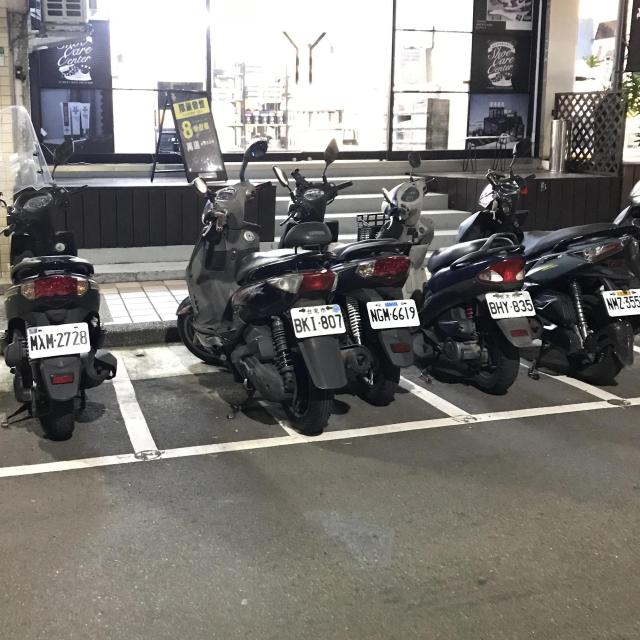W: (24, 322, 94, 358), (288, 302, 349, 340), (365, 294, 422, 330), (481, 287, 537, 321), (598, 285, 640, 318)
